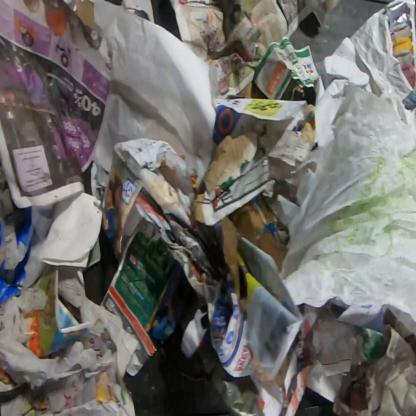cardboard: (191, 121, 275, 228), (218, 193, 287, 305), (0, 206, 35, 308)
soft_plastic: (275, 84, 415, 327), (0, 287, 97, 390)
